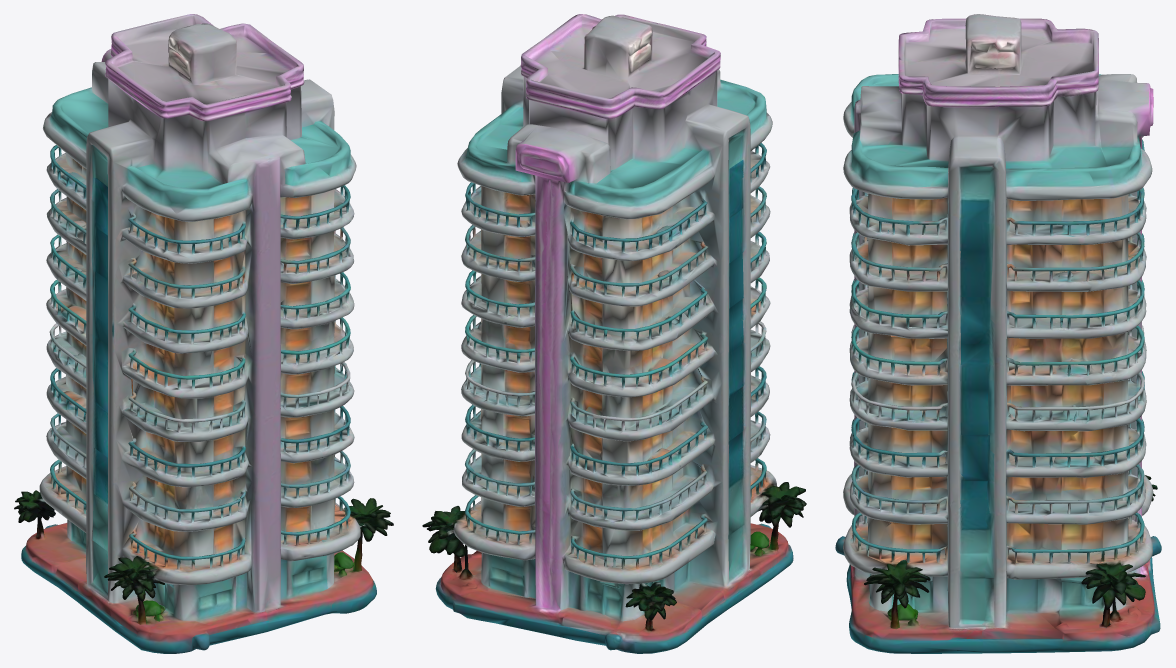
File: condo-tower-diet.glb
The picture shows the model from 3 angles, left to right: view 1: azimuth 30°, elevation 25°; view 2: azimuth 150°, elevation 25°; view 3: azimuth 270°, elevation 25°; orthographic projection. The views are drawn at different scales.
Parts seen in each view (by area): view 1: tripo_node_ab30d3b3-df20-470a-8a8a-6df5425b4486; view 2: tripo_node_ab30d3b3-df20-470a-8a8a-6df5425b4486; view 3: tripo_node_ab30d3b3-df20-470a-8a8a-6df5425b4486.
Part boxes in pixels (left/top/right/bottom): tripo_node_ab30d3b3-df20-470a-8a8a-6df5425b4486: left=14, top=14, right=393, bottom=653; tripo_node_ab30d3b3-df20-470a-8a8a-6df5425b4486: left=422, top=14, right=806, bottom=653; tripo_node_ab30d3b3-df20-470a-8a8a-6df5425b4486: left=835, top=14, right=1161, bottom=653.
Size of the model in its own units: 0.5424 by 0.9997 by 0.5187.
1 material, 1 textured.
